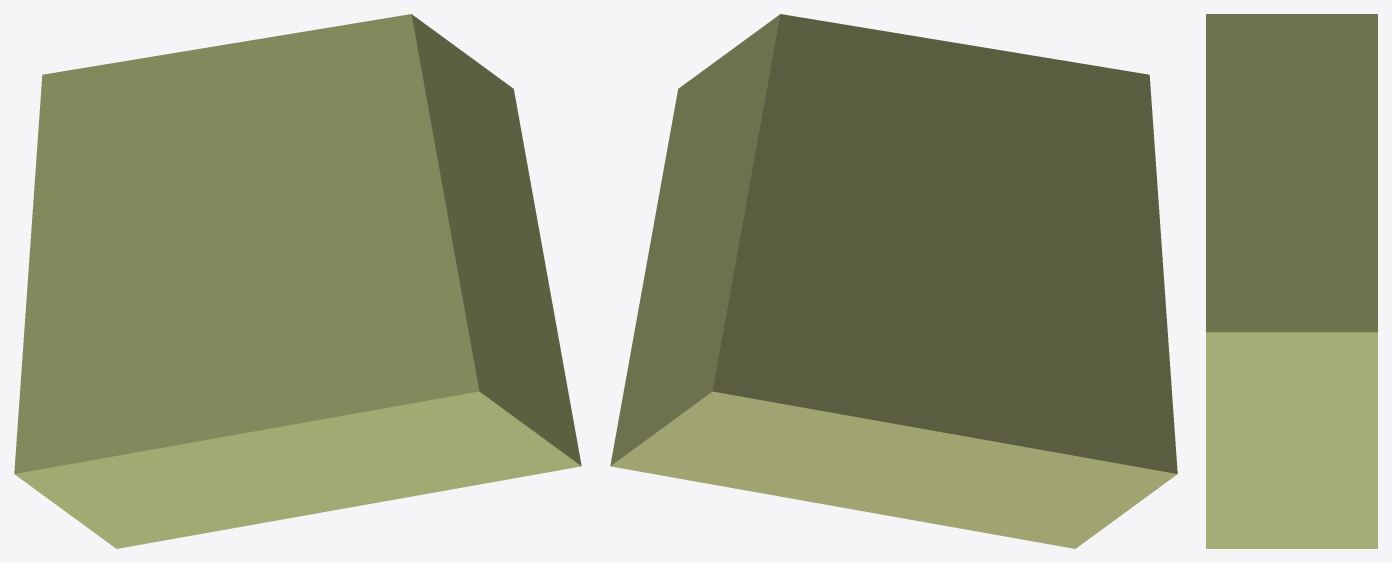
The picture shows the model from 3 angles, left to right: view 1: azimuth 30°, elevation 25°; view 2: azimuth 150°, elevation 25°; view 3: azimuth 270°, elevation 25°; orthographic projection. The views are drawn at different scales.
Parts seen in each view (by area): view 1: 0_0_3_2_0_1_0_0_2; view 2: 0_0_3_2_0_1_0_0_2; view 3: 0_0_3_2_0_1_0_0_2.
Part boxes in pixels (<box>): 0_0_3_2_0_1_0_0_2: <box>14,14,581,548</box>; 0_0_3_2_0_1_0_0_2: <box>610,14,1177,548</box>; 0_0_3_2_0_1_0_0_2: <box>1206,14,1377,548</box>.
Bounding box in the file's own units: 15.75 × 13.7 × 6.
